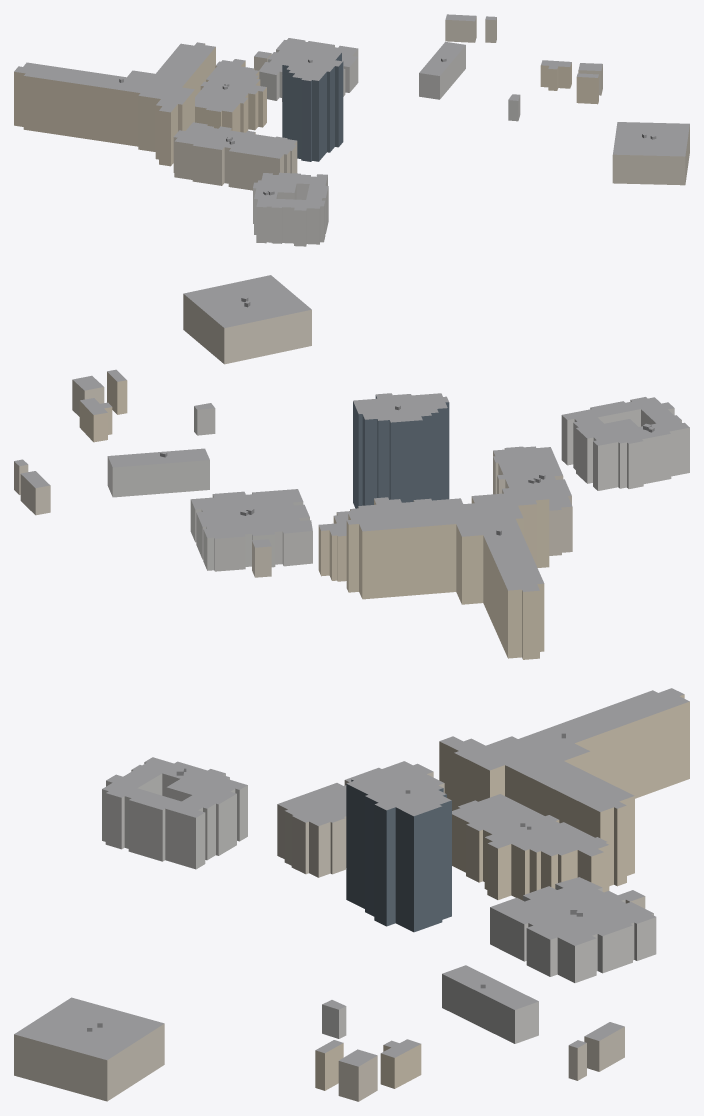
File: building_0_4.glb
3 renders of one model, top to bottom at view 1: azimuth 30°, elevation 25°; view 2: azimuth 150°, elevation 25°; view 3: azimuth 270°, elevation 25°, orthographic. The views are drawn at different scales.
Parts seen in each view (by area): view 1: roof, sandstone, concrete_warm, concrete_light, glass_dark; view 2: roof, sandstone, concrete_light, concrete_warm, glass_dark; view 3: roof, sandstone, concrete_light, concrete_warm, glass_dark.
Part boxes in pixels (x1,y1,x2,y2): roof: (14, 14, 689, 210); sandstone: (14, 44, 598, 166); concrete_warm: (173, 16, 689, 190); concrete_light: (253, 41, 520, 246); glass_dark: (282, 53, 343, 161); roof: (14, 275, 689, 591); sandstone: (79, 372, 549, 659); concrete_light: (107, 400, 689, 571); concrete_warm: (14, 294, 572, 577); glass_dark: (353, 395, 449, 508); roof: (14, 688, 689, 1066); sandstone: (315, 694, 689, 1090); concrete_light: (102, 762, 656, 1043); concrete_warm: (14, 772, 645, 1101); glass_dark: (346, 779, 451, 932).
Size of the model in its own units: 280 by 46.35 by 237.
